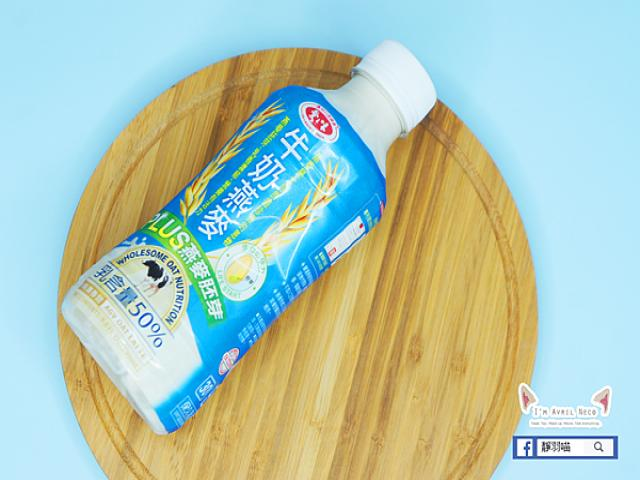bottle: (61, 41, 435, 434)
